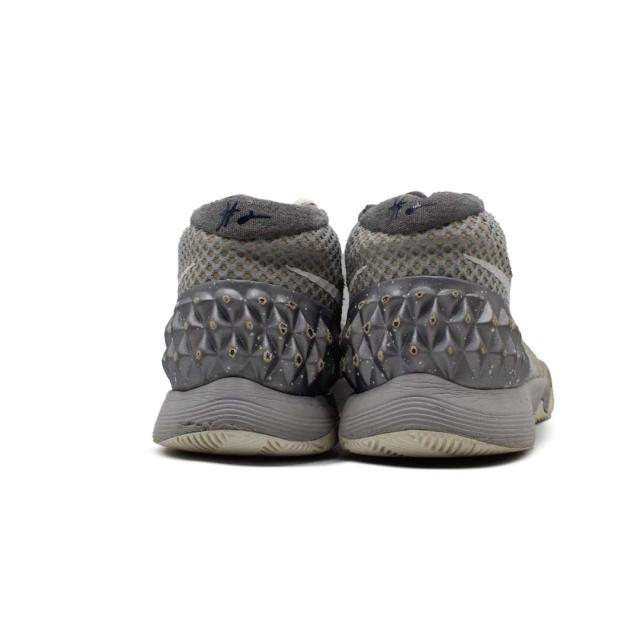heel: (340, 192, 516, 384), (163, 195, 333, 393)
midsole: (336, 378, 533, 456), (158, 375, 338, 455)
